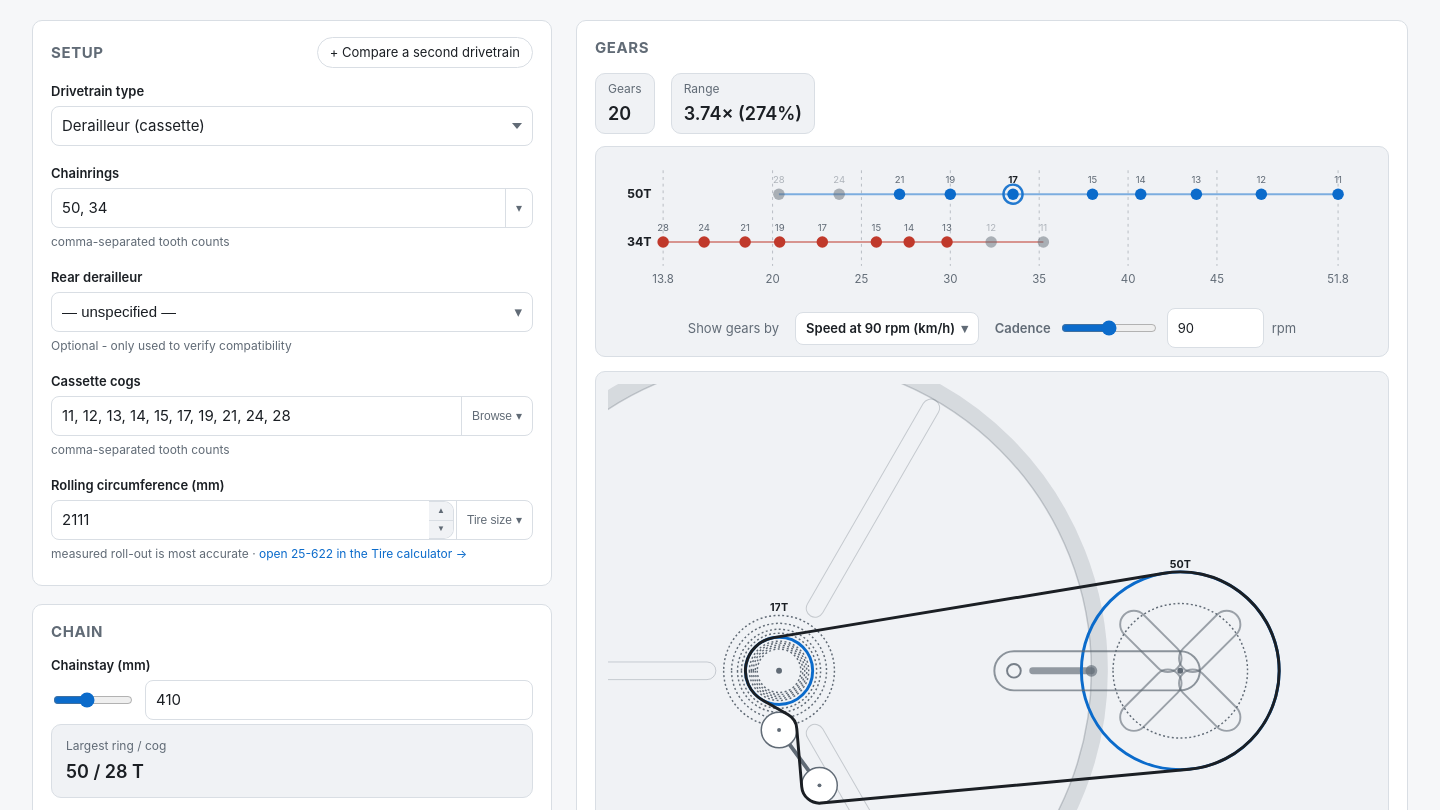
Scenario: Drivetrain page › switches the chart axis via the in-chart dropdown
This screenshot has width=1440, height=810.
Click the button with class "gc-axis-btn". click: point(887, 328)
box: [795,312,979,345]
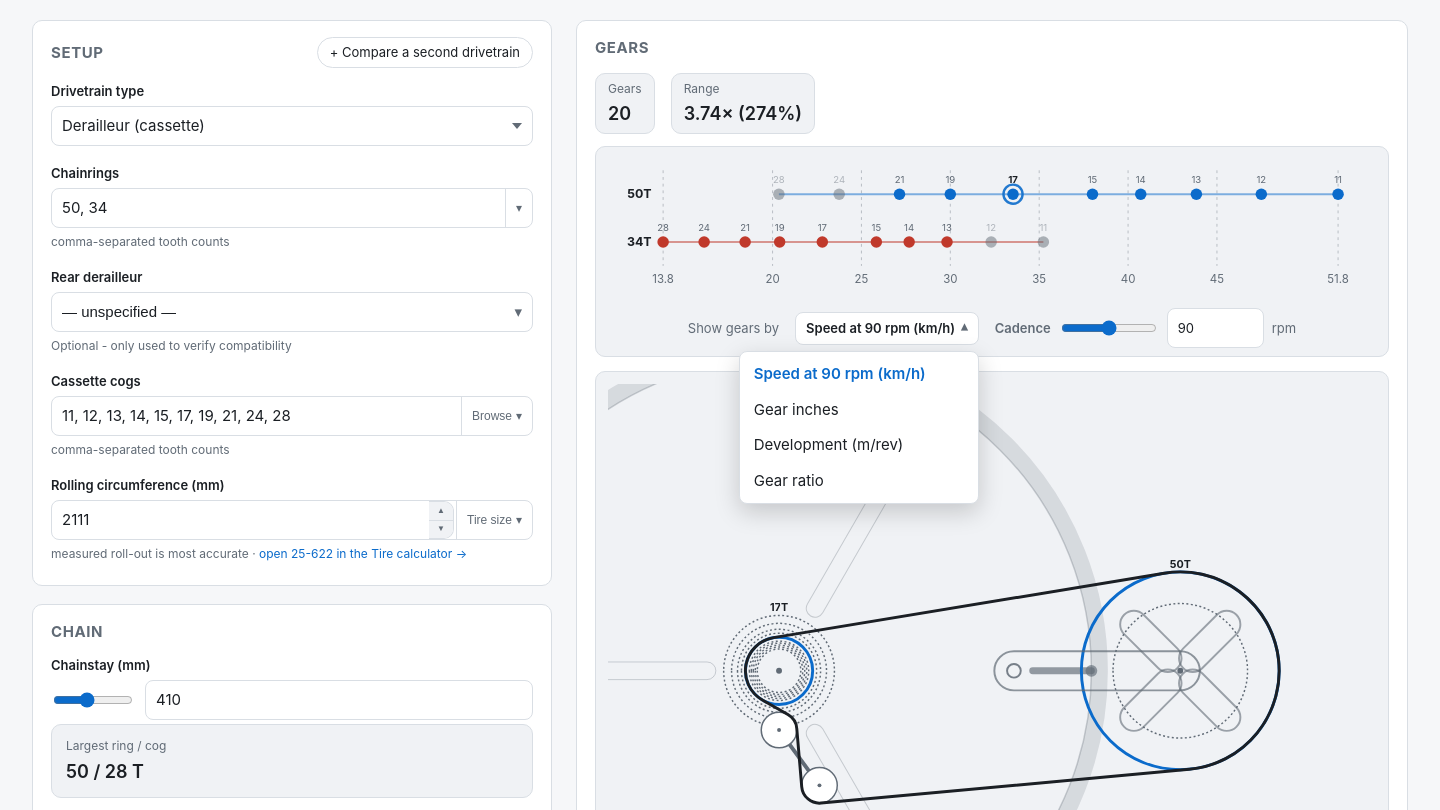
Click the button "Gear inches". click: point(859, 410)
box: [744,392,974,427]
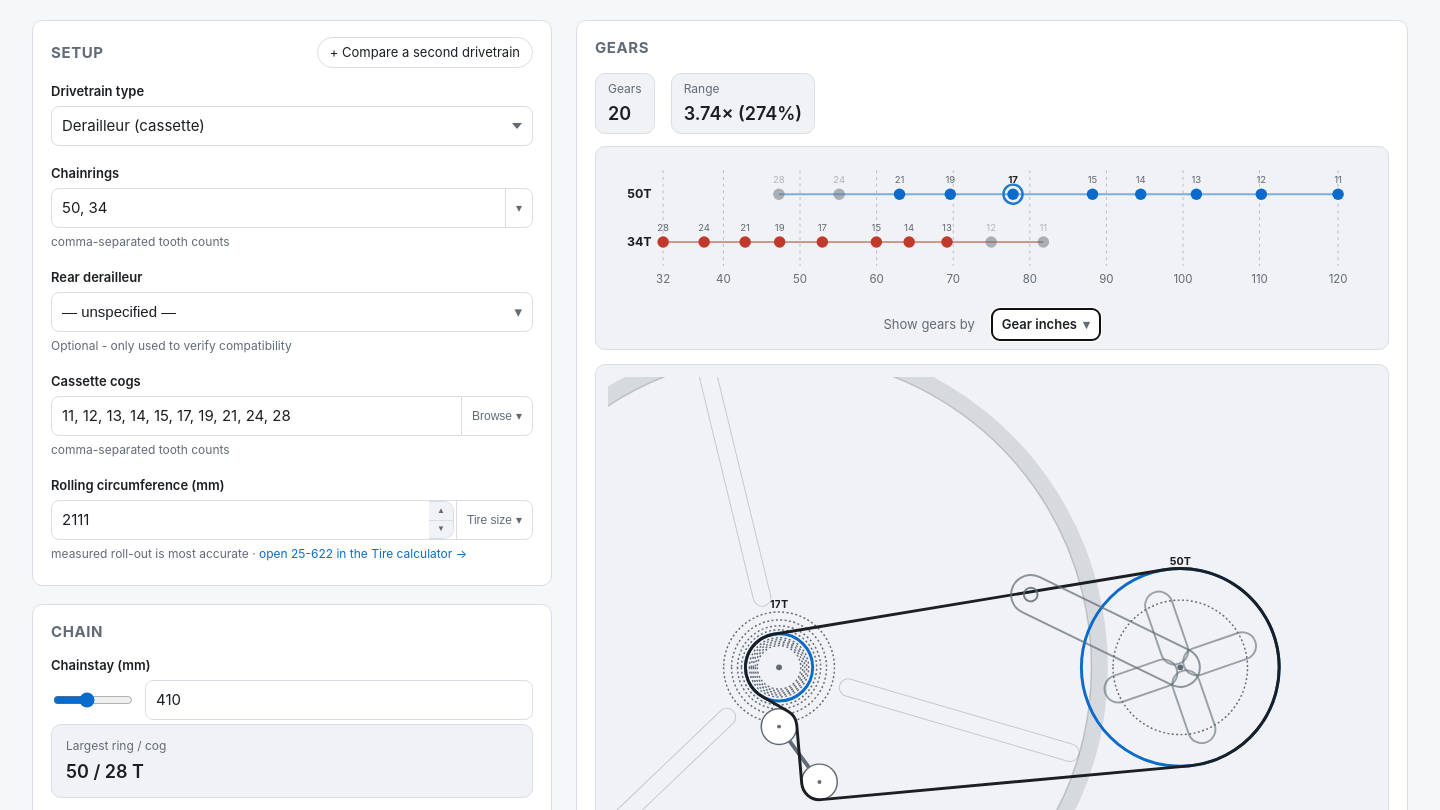
Check: the button with class "gc-axis-btn" shows "Gear inches", box [991,308,1100,341]
